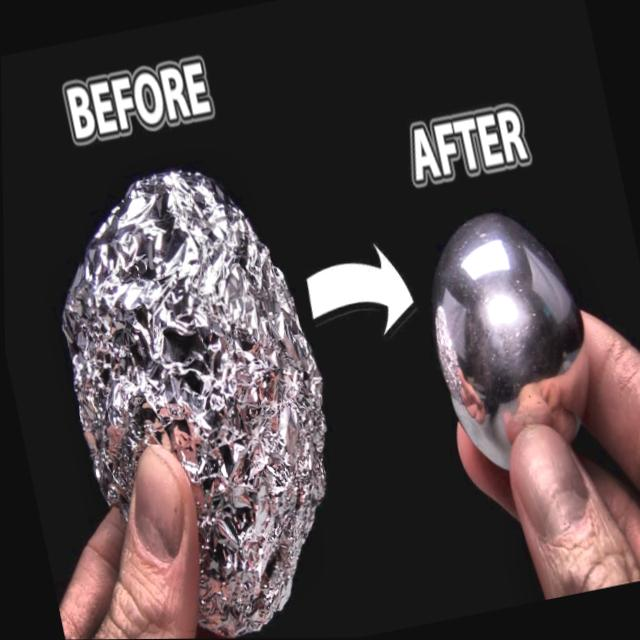Foil: (17, 141, 378, 640)
